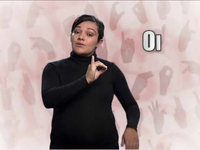oi: (84, 54, 107, 83)
